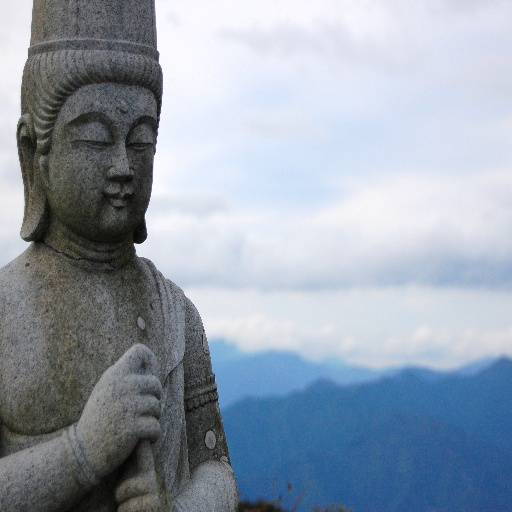hand: (55, 345, 178, 481), (115, 439, 171, 511)
